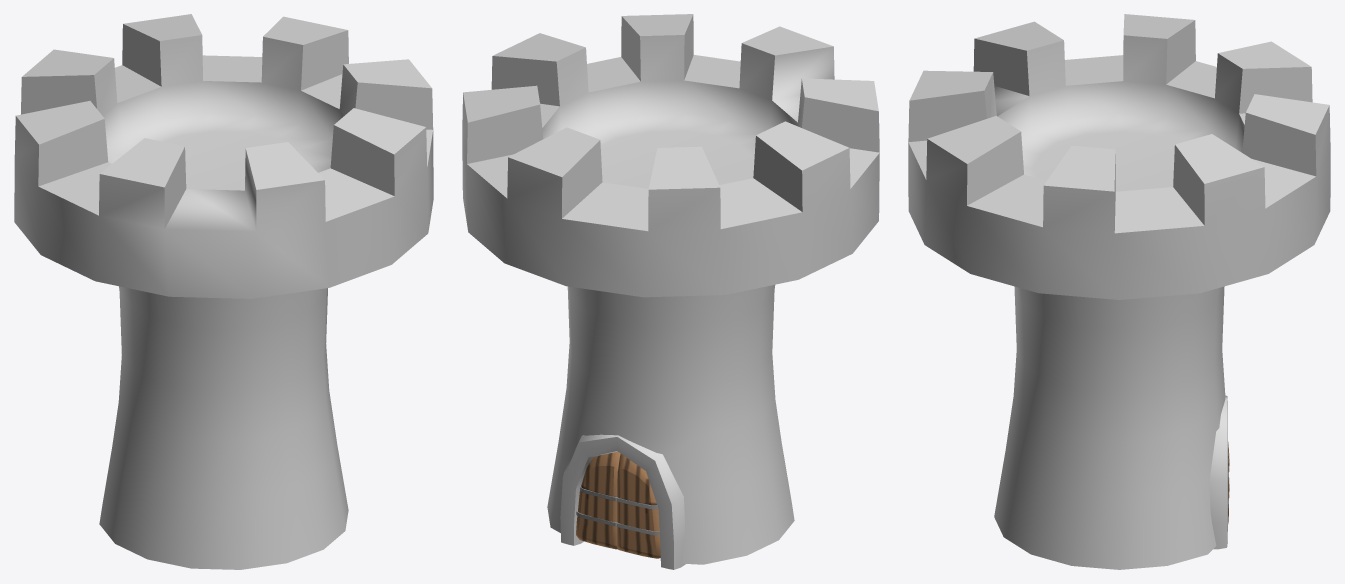
Rendered from Tower2.fbx.
The picture shows the model from 3 angles, left to right: view 1: azimuth 30°, elevation 25°; view 2: azimuth 150°, elevation 25°; view 3: azimuth 270°, elevation 25°; orthographic projection.
Visible parts, largest first — view 1: Tower Combined; view 2: Tower Combined; view 3: Tower Combined.
Part boxes in pixels (x1,y1,x2,y2): Tower Combined: [14, 14, 433, 569]; Tower Combined: [462, 14, 879, 569]; Tower Combined: [908, 14, 1330, 569].
Size of the model in its own units: 6.65 by 6.65 by 7.45.
3 materials, 1 textured.
